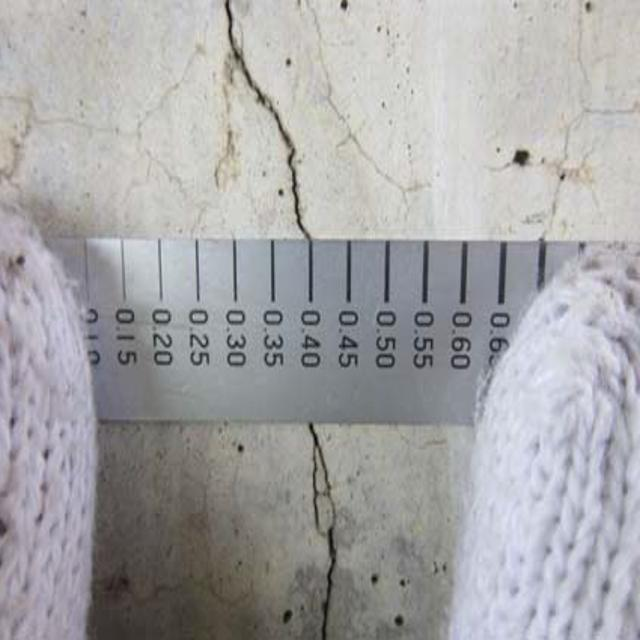crack: (211, 8, 343, 243), (292, 428, 360, 640)
